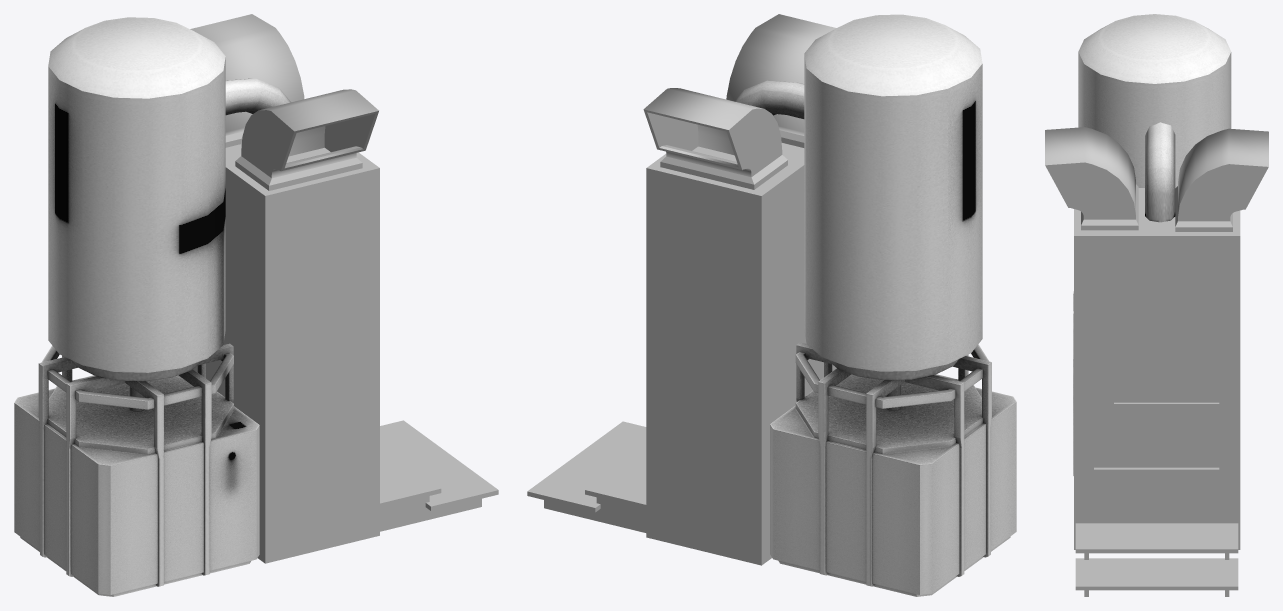
Rendered from sabatier.fbx.
3 views of the same model, side by side, from view 1: azimuth 30°, elevation 25°; view 2: azimuth 150°, elevation 25°; view 3: azimuth 270°, elevation 25° (orthographic). The views are drawn at different scales.
Visible parts, largest first — view 1: tank_2.001; view 2: tank_2.001; view 3: tank_2.001.
Boxes of the visible parts, box(x1,y1,x2,y2) form: tank_2.001: box(14, 14, 498, 596); tank_2.001: box(527, 14, 1016, 596); tank_2.001: box(1045, 14, 1268, 596).
Size of the model in its own units: 514 by 624 by 293.
